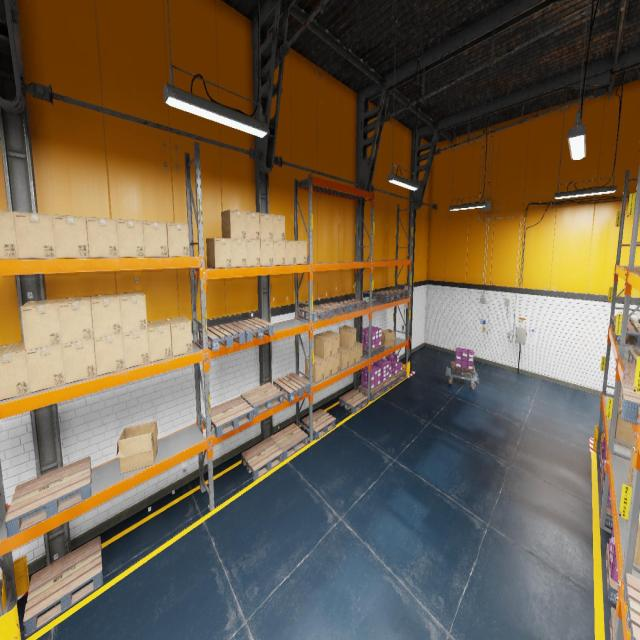box: (117, 421, 158, 473), (21, 299, 61, 350), (13, 212, 56, 258), (25, 344, 65, 393), (0, 342, 30, 401), (62, 334, 96, 384), (58, 296, 93, 344), (52, 214, 89, 258), (91, 293, 122, 338), (86, 217, 118, 258), (94, 334, 125, 376), (118, 292, 147, 333), (116, 219, 145, 257), (122, 329, 150, 368), (147, 319, 172, 362), (165, 317, 192, 356), (143, 220, 168, 256), (0, 211, 18, 259), (614, 407, 634, 449), (167, 222, 190, 257), (206, 238, 232, 268), (221, 209, 246, 239), (305, 354, 324, 383), (314, 333, 332, 359), (231, 239, 247, 267), (322, 330, 339, 356), (633, 510, 640, 573), (245, 211, 260, 239), (339, 326, 356, 348), (629, 432, 636, 484), (247, 239, 260, 266), (260, 240, 274, 265), (260, 213, 273, 239), (340, 345, 356, 366), (626, 471, 632, 525), (274, 240, 286, 265), (273, 215, 285, 240), (296, 241, 307, 264), (286, 240, 296, 264), (382, 329, 394, 348), (340, 345, 349, 370), (627, 487, 632, 526), (332, 353, 340, 375), (324, 356, 332, 378), (356, 341, 362, 363), (618, 383, 622, 406), (632, 467, 634, 486)
pallets: (23, 536, 103, 637), (5, 457, 91, 538), (242, 437, 283, 480), (211, 397, 253, 438), (241, 382, 283, 417), (270, 423, 308, 460), (199, 323, 245, 351), (623, 573, 640, 639), (273, 372, 310, 402), (302, 408, 336, 440), (231, 318, 274, 342), (620, 379, 640, 425), (606, 543, 618, 605), (339, 389, 368, 414), (612, 322, 640, 345), (298, 305, 332, 322), (610, 316, 640, 332), (609, 608, 624, 640), (602, 486, 613, 528), (316, 302, 349, 316), (358, 384, 384, 401), (451, 362, 475, 378), (339, 298, 366, 312), (362, 344, 384, 357), (372, 291, 398, 301), (623, 362, 636, 381), (381, 376, 396, 392), (384, 289, 409, 298), (391, 370, 407, 383), (627, 349, 640, 364), (599, 446, 603, 472), (601, 464, 604, 495)
